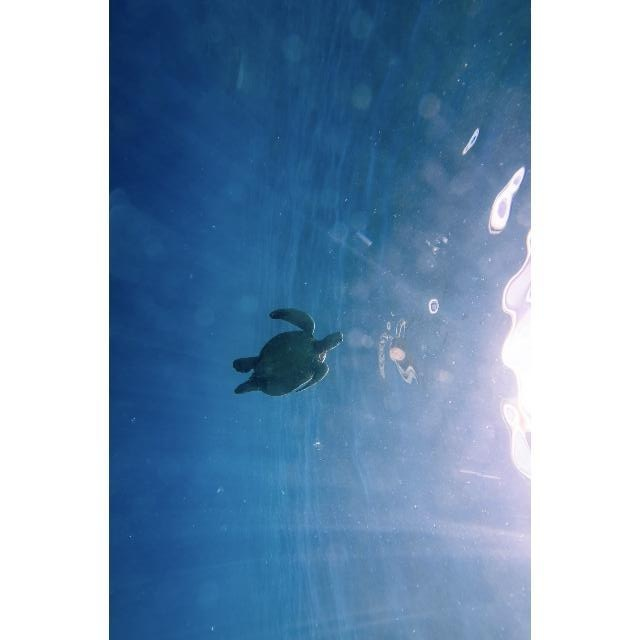turtle: (232, 308, 345, 399)
